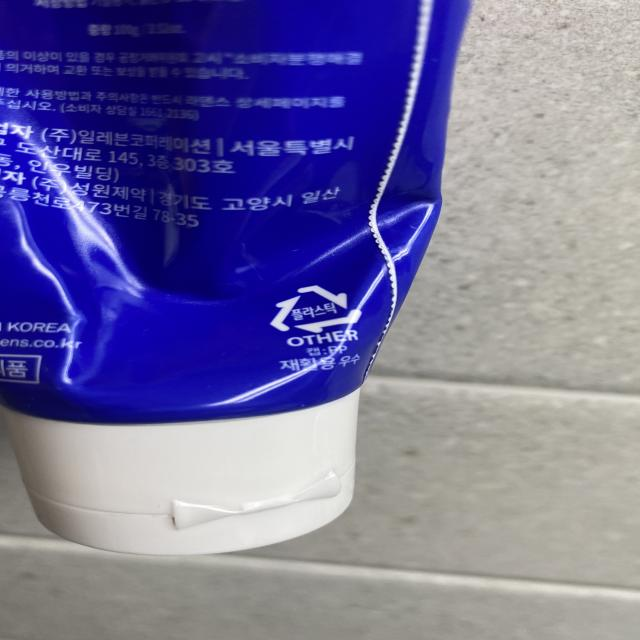Plastic: (260, 278, 368, 340)
